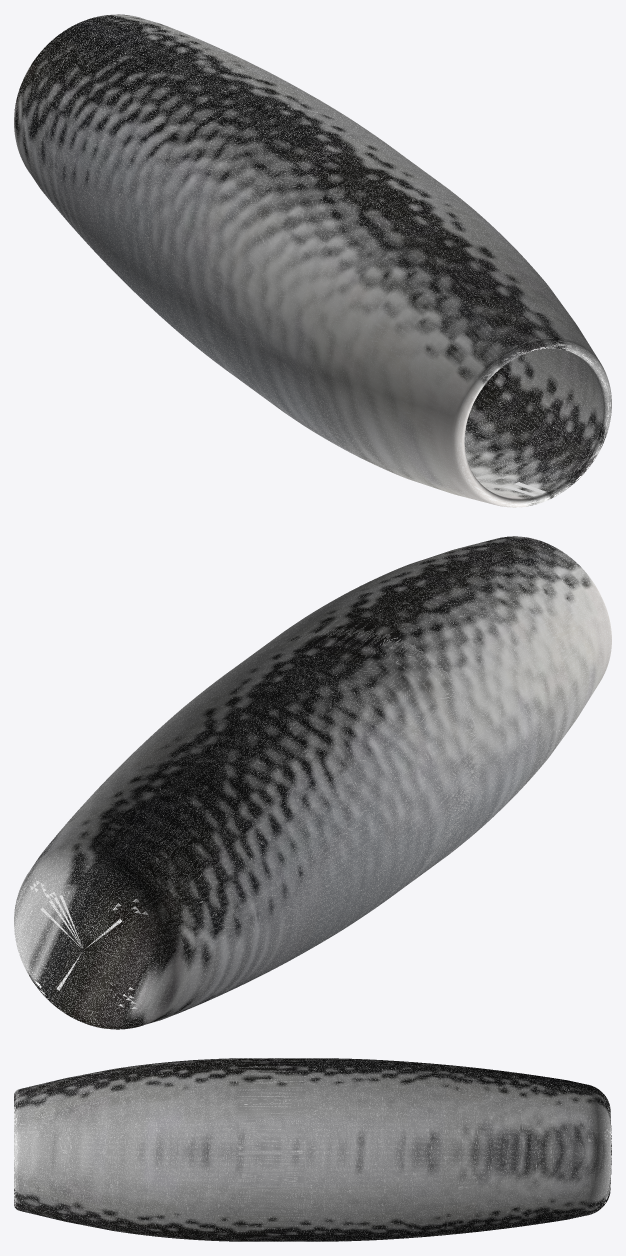
The model's file is model_scale.obj.
3 renders of one model, top to bottom at view 1: azimuth 30°, elevation 25°; view 2: azimuth 150°, elevation 25°; view 3: azimuth 270°, elevation 25°, orthographic. The views are drawn at different scales.
Visible parts, largest first — view 1: mesh1_mesh1-geometry; view 2: mesh1_mesh1-geometry; view 3: mesh1_mesh1-geometry.
Boxes of the visible parts, x1,y1,x2,y2 form: mesh1_mesh1-geometry: [14, 14, 611, 507]; mesh1_mesh1-geometry: [14, 536, 611, 1029]; mesh1_mesh1-geometry: [14, 1058, 611, 1241].
Bounding box in the file's own units: 0.0791 × 0.0791 × 0.2577.
2 materials, 2 textured.
